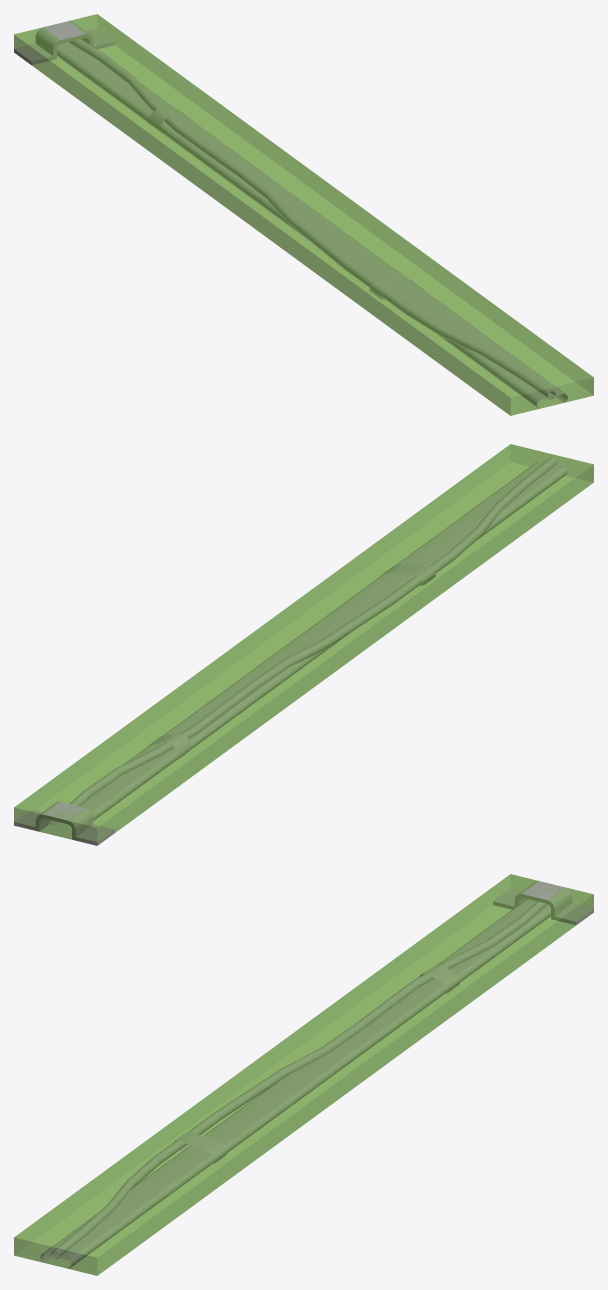
The model's file is p_Cabling_1m_01_a.fbx.
3 views of the same model, one above another, from view 1: azimuth 30°, elevation 25°; view 2: azimuth 150°, elevation 25°; view 3: azimuth 330°, elevation 25° (orthographic).
Parts seen in each view (by area): view 1: p_Cabling_1m_01_a_col, p_Cabling_1m_01_a_LOD0; view 2: p_Cabling_1m_01_a_col, p_Cabling_1m_01_a_LOD0; view 3: p_Cabling_1m_01_a_col, p_Cabling_1m_01_a_LOD0.
Boxes of the visible parts, bbox=[...] form: p_Cabling_1m_01_a_col: bbox=[14, 14, 593, 415]; p_Cabling_1m_01_a_LOD0: bbox=[14, 21, 567, 408]; p_Cabling_1m_01_a_col: bbox=[14, 444, 593, 842]; p_Cabling_1m_01_a_LOD0: bbox=[14, 457, 567, 845]; p_Cabling_1m_01_a_col: bbox=[14, 874, 593, 1275]; p_Cabling_1m_01_a_LOD0: bbox=[40, 881, 593, 1268].
Size of what is drawn, in the model's own units: 9.88 by 2.05 by 102.
